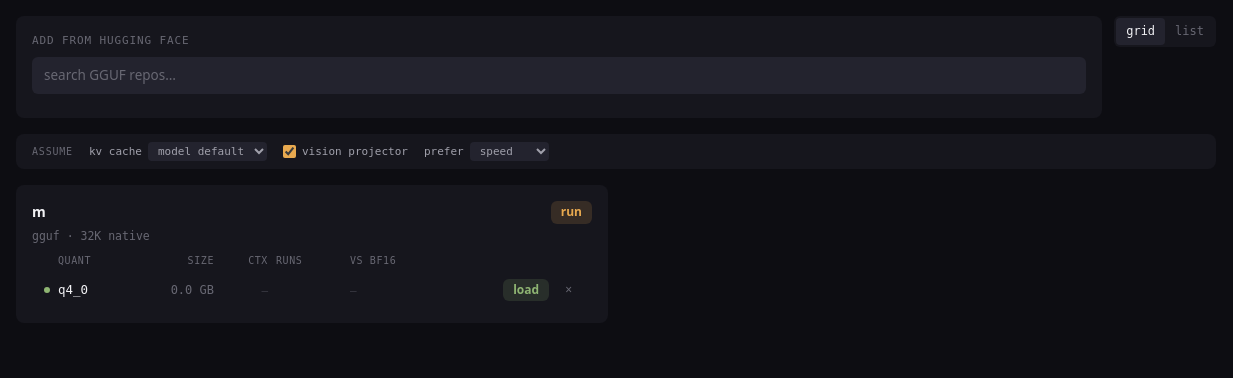
Test case: the Models page and a switch that answers with a notice › draws the card's notice at card level, not on a row
Click the button "run".
click(571, 212)  # box [551, 201, 592, 224]
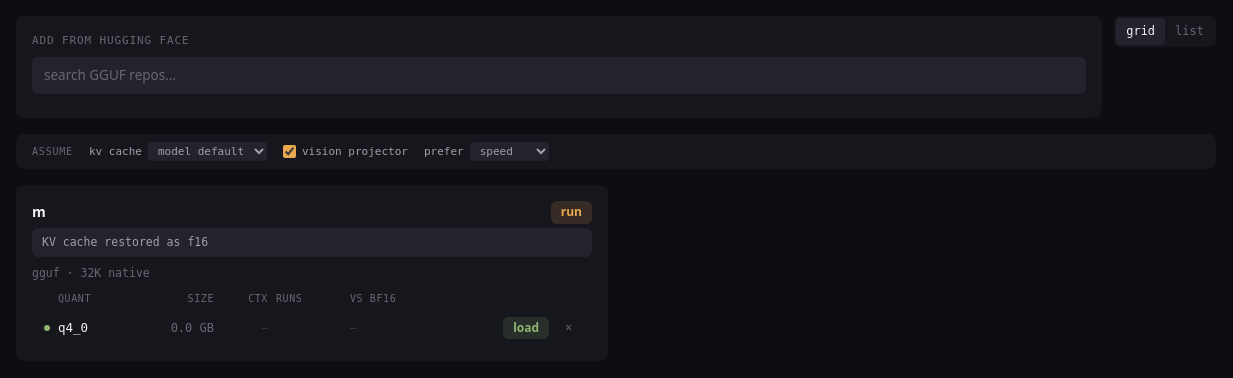
Check: the list item "q4_0 0.0 GB — — load ×" is shown, box [32, 311, 592, 345]
Check: the text "KV cache restored as f16" is shown, box [32, 228, 592, 257]
